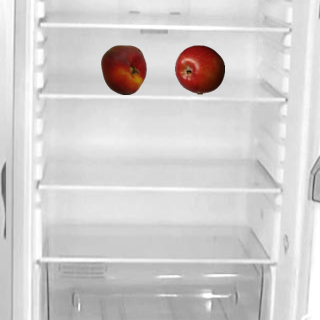Apple Braeburn: (174, 44, 224, 94)
Nectarine Flat: (98, 44, 148, 94)
